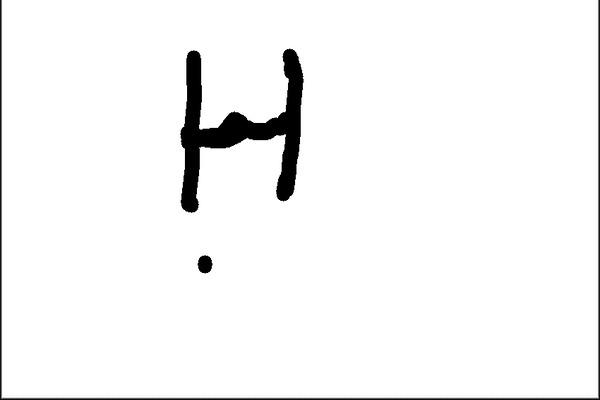H: (176, 41, 330, 222)
